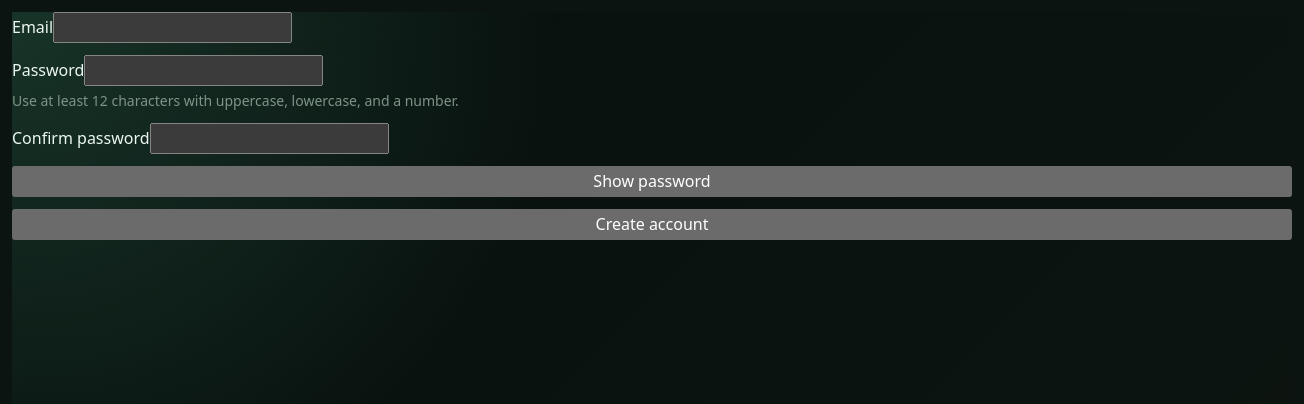
Test: auth forms › validates matching passwords on sign-up
The image size is (1304, 404).
Step 1. Type "Longpassword1" into the password field labelled "Password" → (204, 70), box [84,55,323,86]
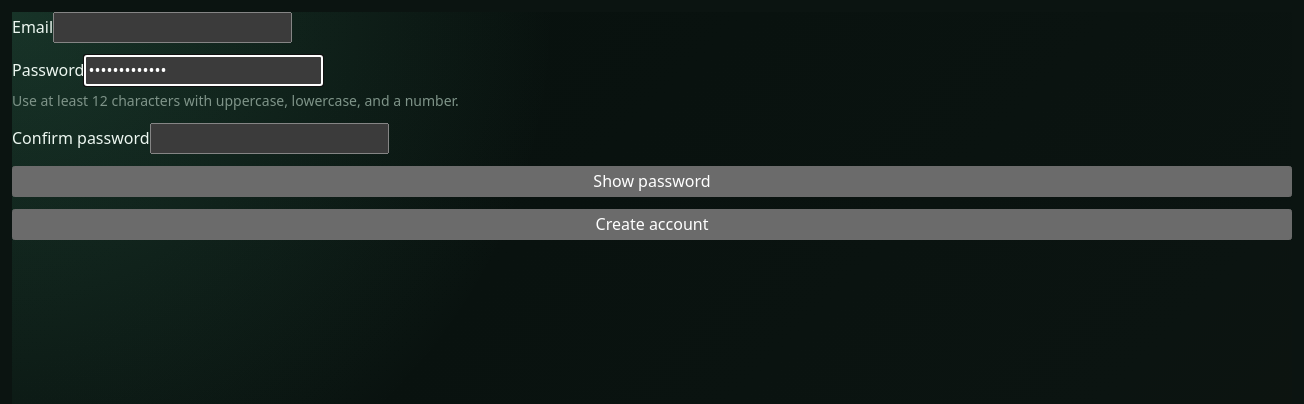
Step 2. Type "Differentpass1" into the password field labelled "Confirm password" → (269, 139), box [150,123,389,154]
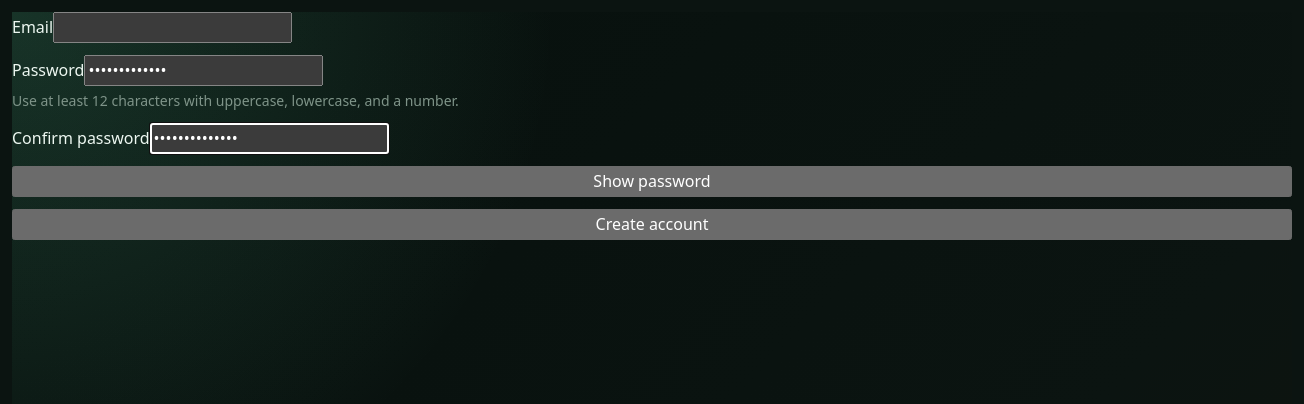
Step 3. Click the button "Create account" → (652, 224), box [12,209,1292,240]
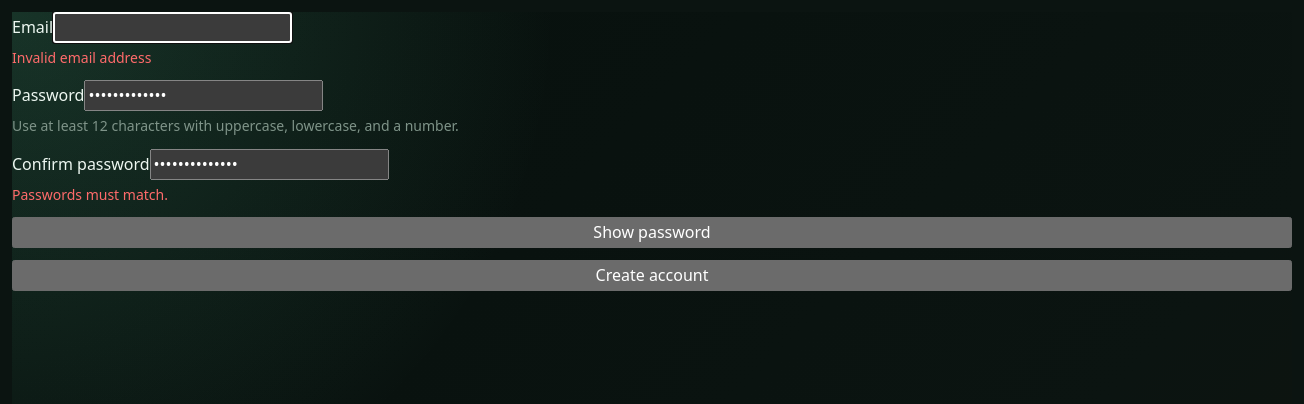
Result: the text "Passwords must match." is shown at [12,185,168,204]
